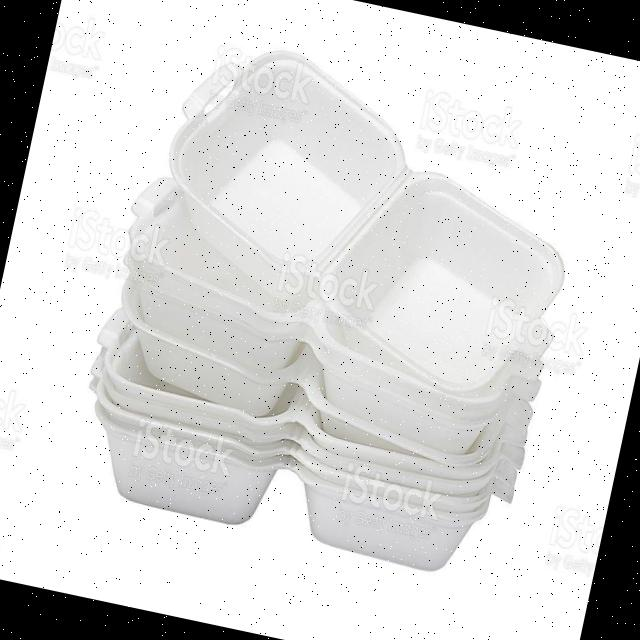styrofoam: (64, 22, 602, 587)
